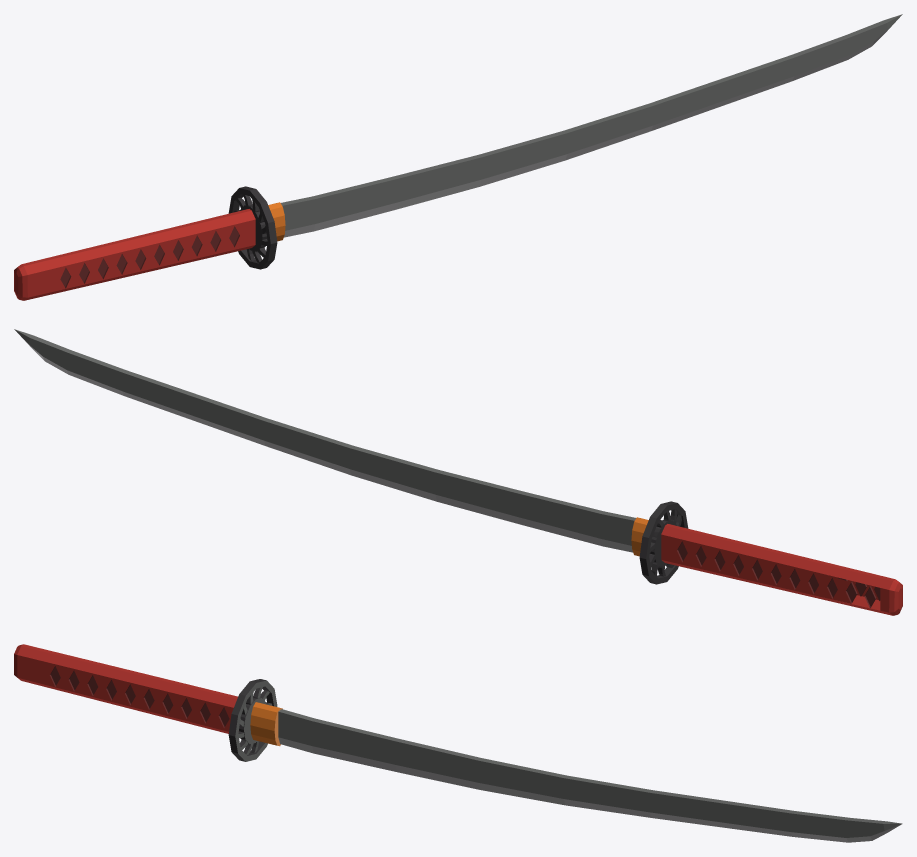
The model's file is SM_Katana_01.glb.
3 views of the same model, one above another, from view 1: azimuth 30°, elevation 25°; view 2: azimuth 150°, elevation 25°; view 3: azimuth 330°, elevation 25° (orthographic).
Parts seen in each view (by area): view 1: SM_Katana_01; view 2: SM_Katana_01; view 3: SM_Katana_01.
Boxes of the visible parts, x1,y1,x2,y2 form: SM_Katana_01: (14,14,902,300); SM_Katana_01: (14,329,902,615); SM_Katana_01: (14,644,902,842).
Size of the model in its own units: 1.27 by 0.1277 by 0.1044.
1 material, 1 textured.
